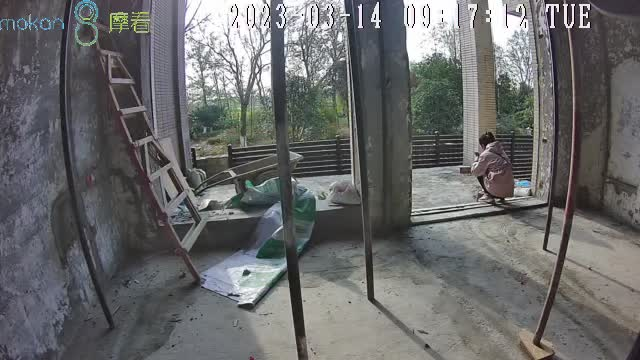people: (471, 132, 515, 205)
window: (167, 1, 357, 217)
